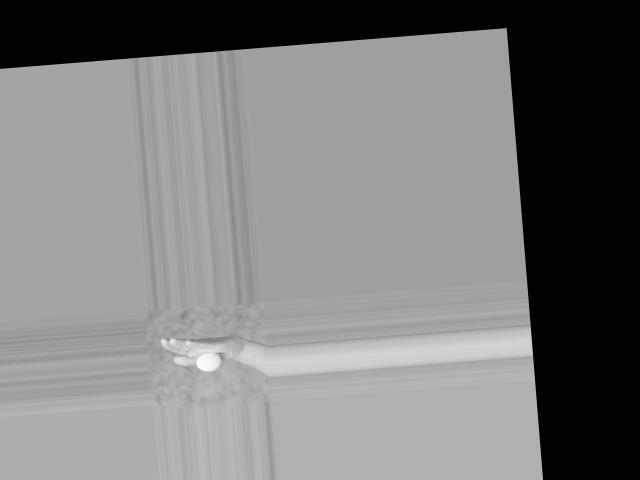egg: (196, 351, 222, 372)
